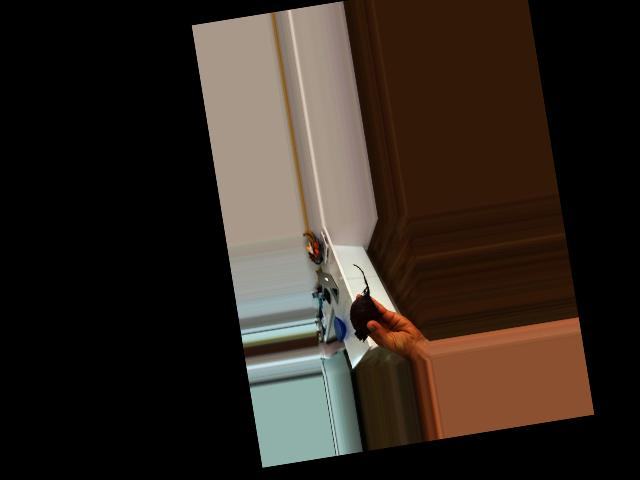beet: (342, 261, 381, 343)
